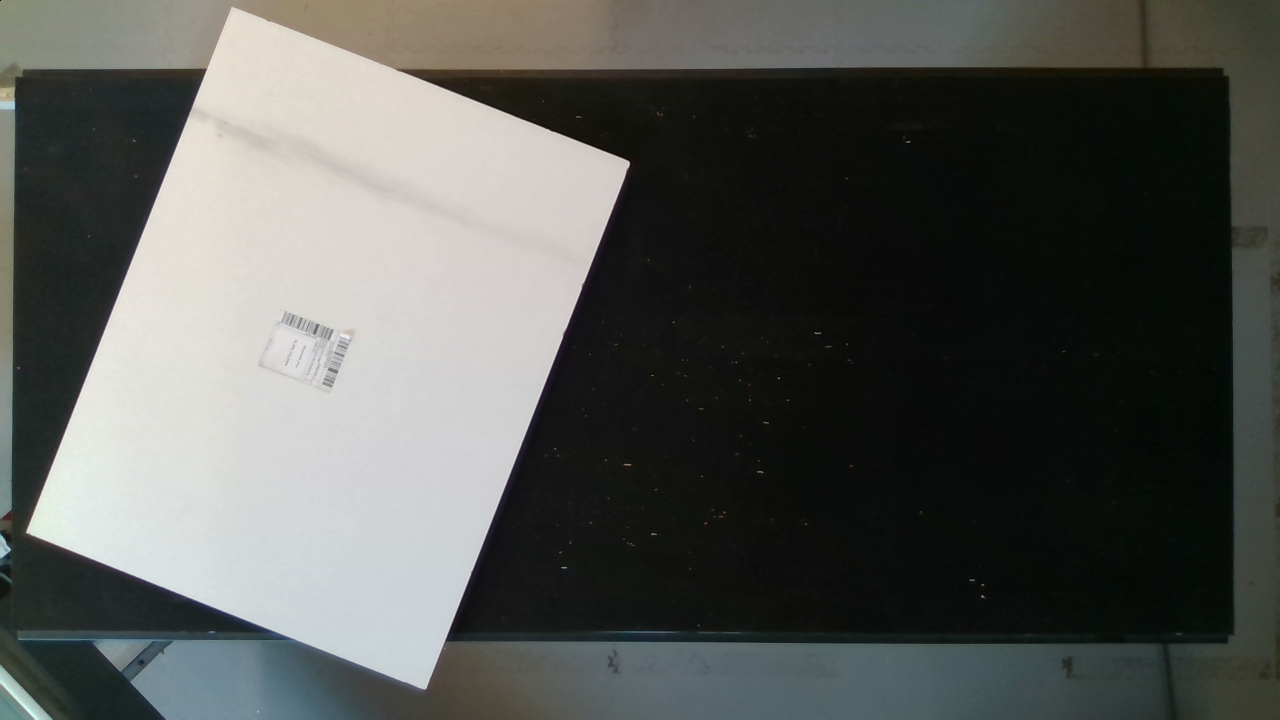barcode: (250, 307, 356, 395)
part2: (21, 14, 638, 686)
